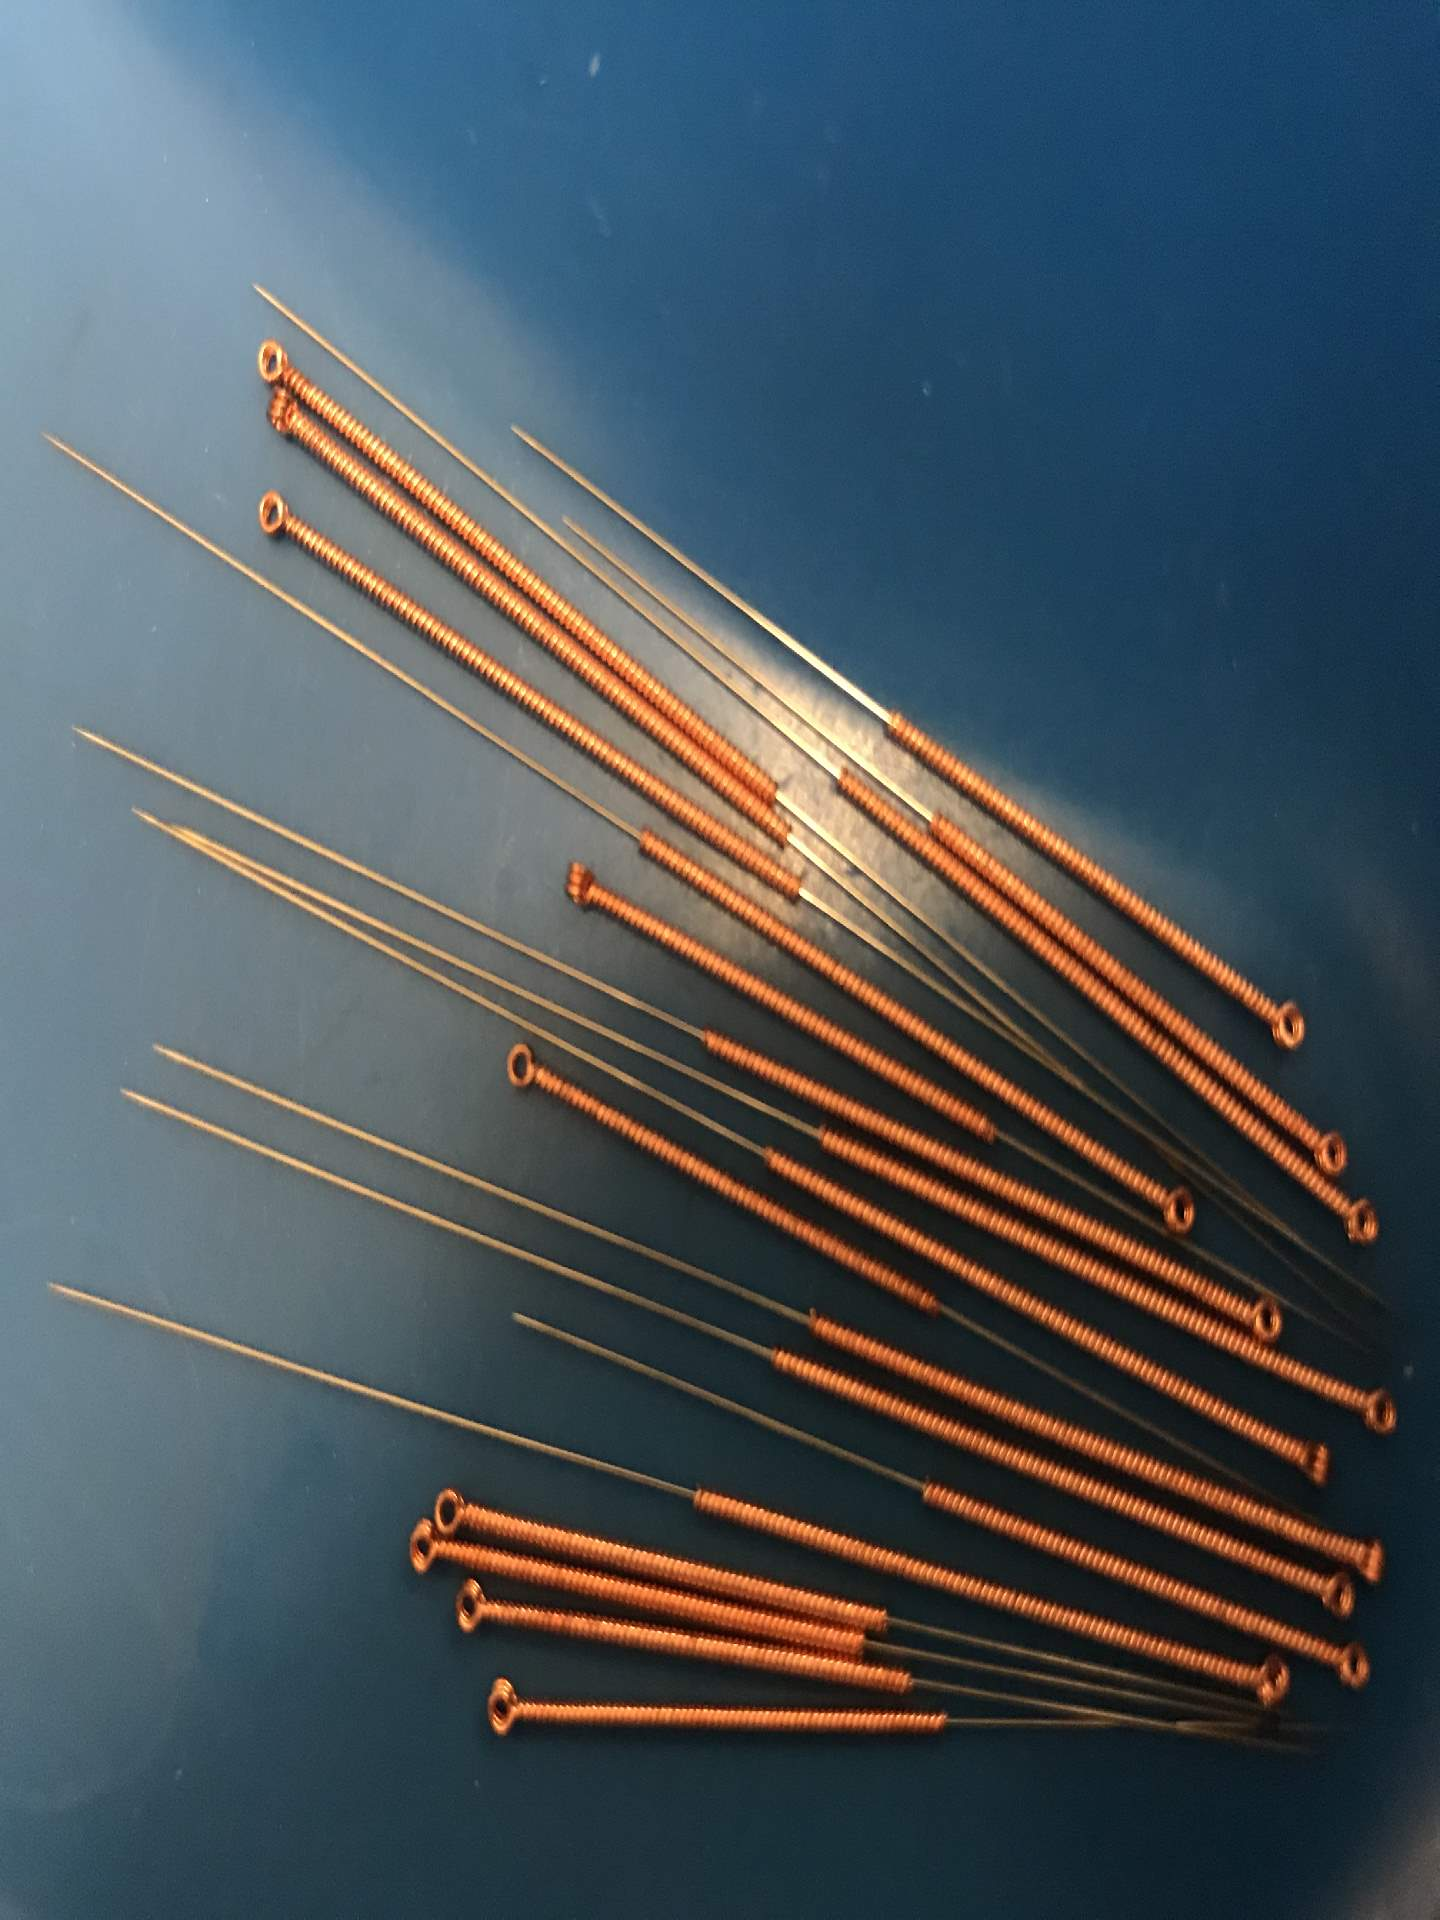needle: (1254, 981, 1317, 1067), (489, 1033, 557, 1105), (467, 1671, 532, 1746), (1278, 1420, 1343, 1495), (1345, 1368, 1404, 1447), (1231, 1648, 1296, 1717), (1147, 1170, 1206, 1246), (551, 850, 607, 924), (244, 482, 307, 547), (1319, 1630, 1379, 1698), (442, 1571, 496, 1642), (1333, 1190, 1393, 1253), (1295, 1565, 1357, 1625), (250, 382, 307, 441), (1342, 1522, 1398, 1583), (244, 333, 299, 392), (1239, 1281, 1289, 1346), (1305, 1107, 1351, 1178), (431, 1473, 478, 1538), (390, 1516, 439, 1575)
